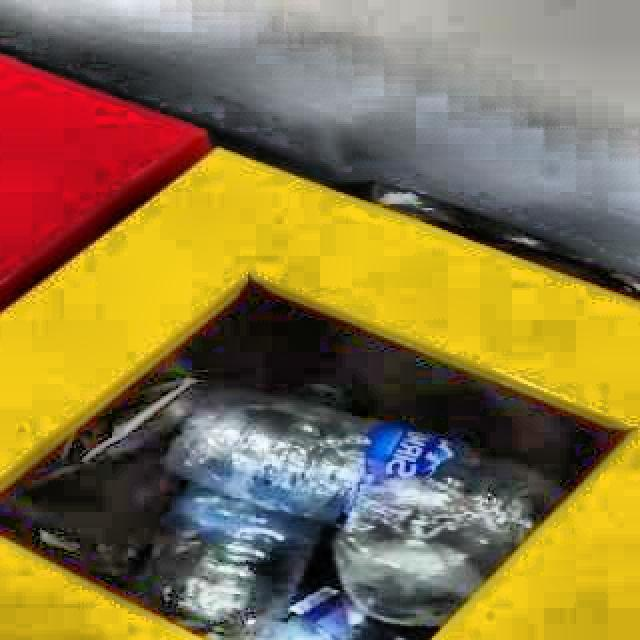plastic: (136, 402, 417, 640)
